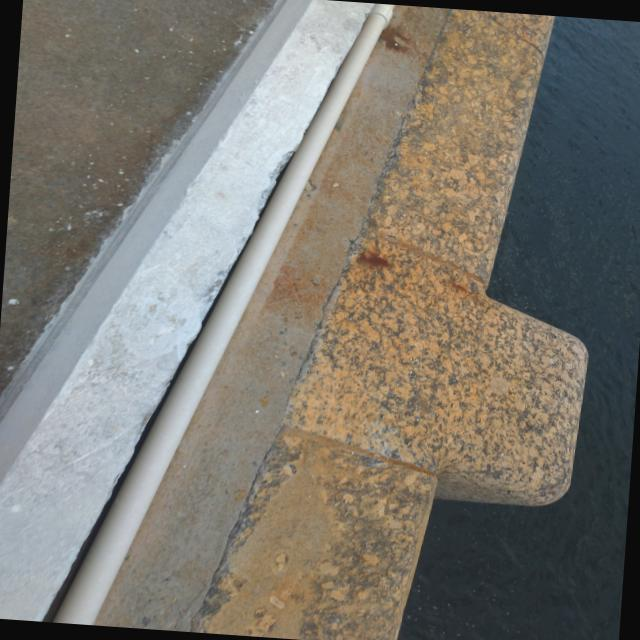gas: (54, 3, 397, 625)
